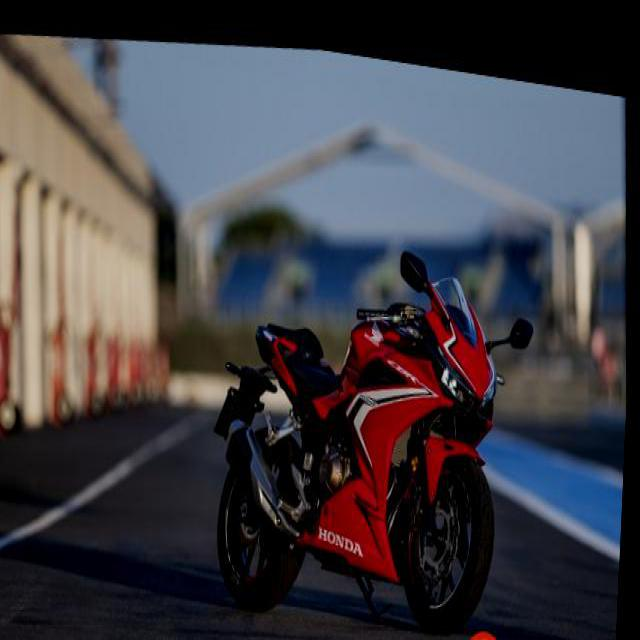CBR500R: (205, 200, 553, 638)
